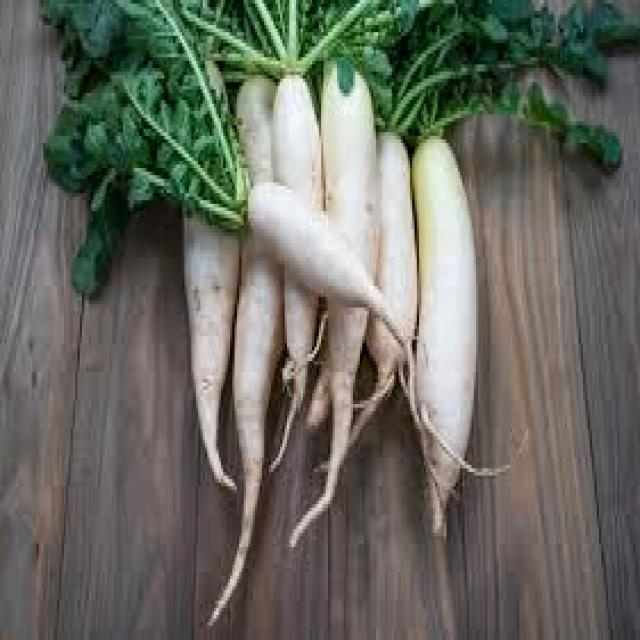Radish: (415, 139, 478, 539)
